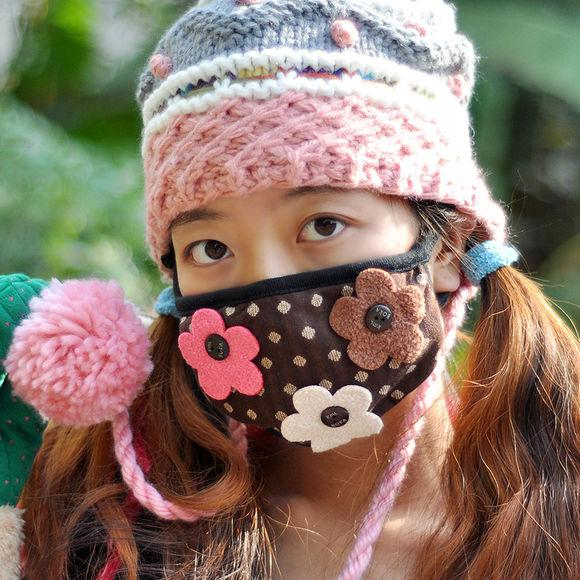OK: (165, 177, 427, 426)
